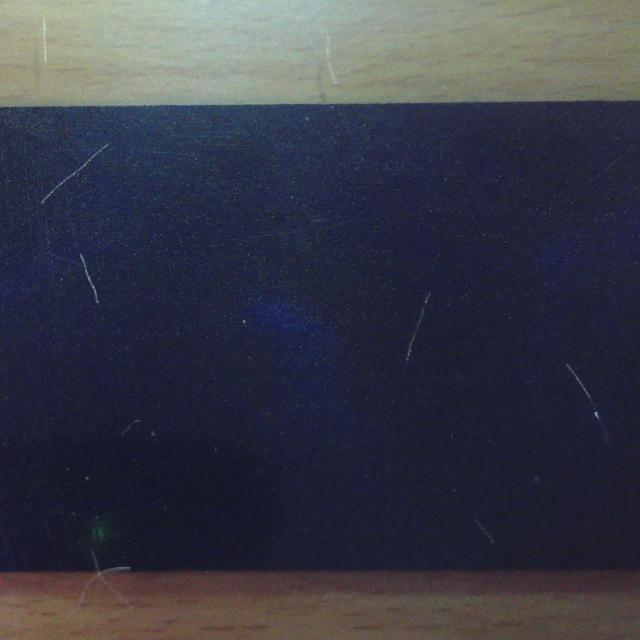defect: (41, 143, 109, 205), (564, 362, 611, 448), (401, 284, 435, 366), (84, 546, 135, 572), (77, 252, 99, 307), (470, 512, 500, 552)
